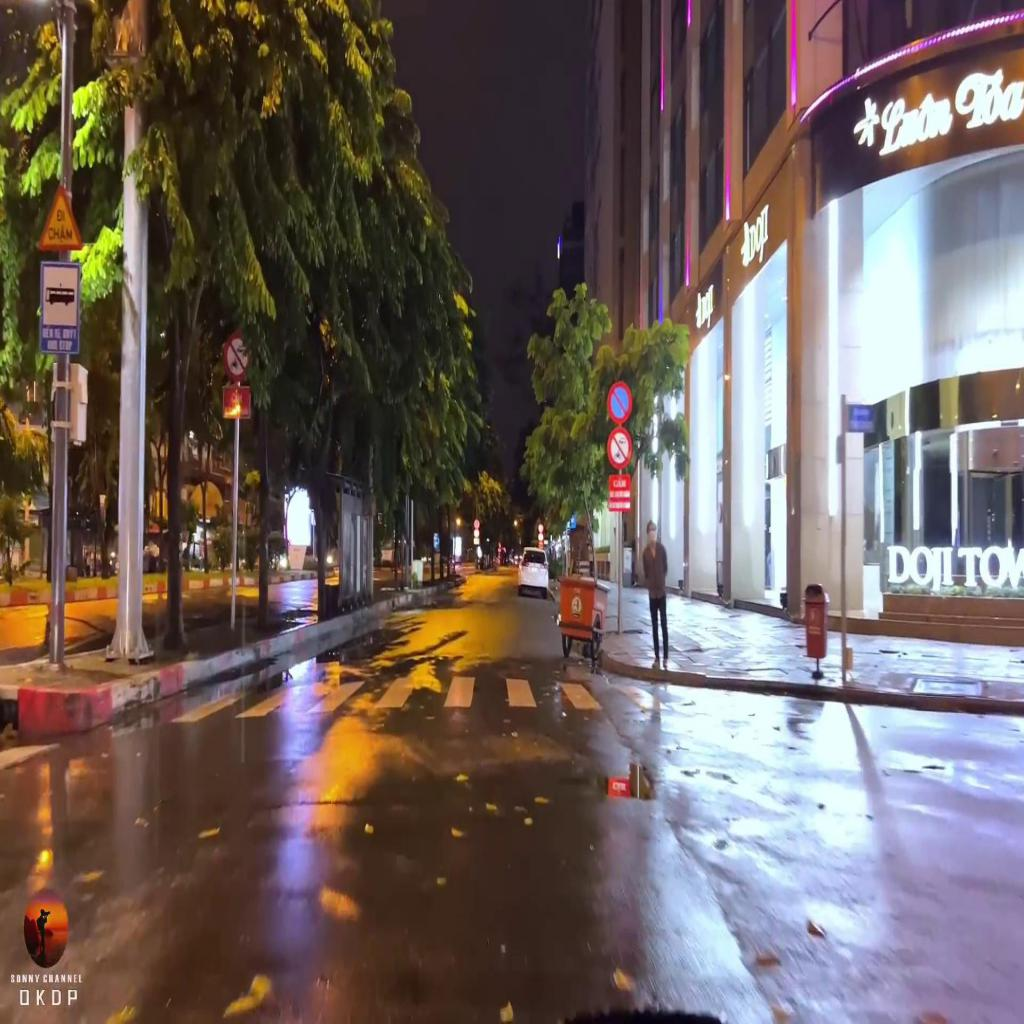cam_do_xe: (606, 380, 633, 426)
cam_xe_2_banh_va_xe_3_banh_co_dong_co: (224, 332, 252, 380), (606, 426, 633, 471)
di_cham: (38, 180, 84, 250)
khac: (41, 260, 78, 354)
